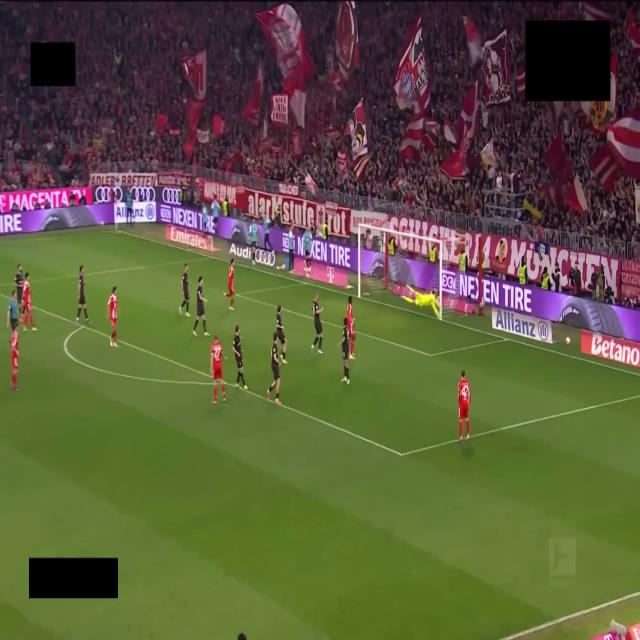player: (402, 287, 439, 317), (232, 324, 248, 390), (193, 276, 209, 336), (211, 336, 225, 404), (267, 333, 280, 404), (22, 272, 37, 331), (458, 370, 470, 440), (76, 265, 90, 324), (339, 318, 350, 384), (312, 294, 323, 353), (276, 305, 287, 364), (108, 287, 117, 347), (179, 264, 189, 317), (224, 258, 234, 310), (347, 296, 355, 359), (11, 326, 18, 391), (15, 264, 23, 306)
referee: (7, 290, 19, 329)
